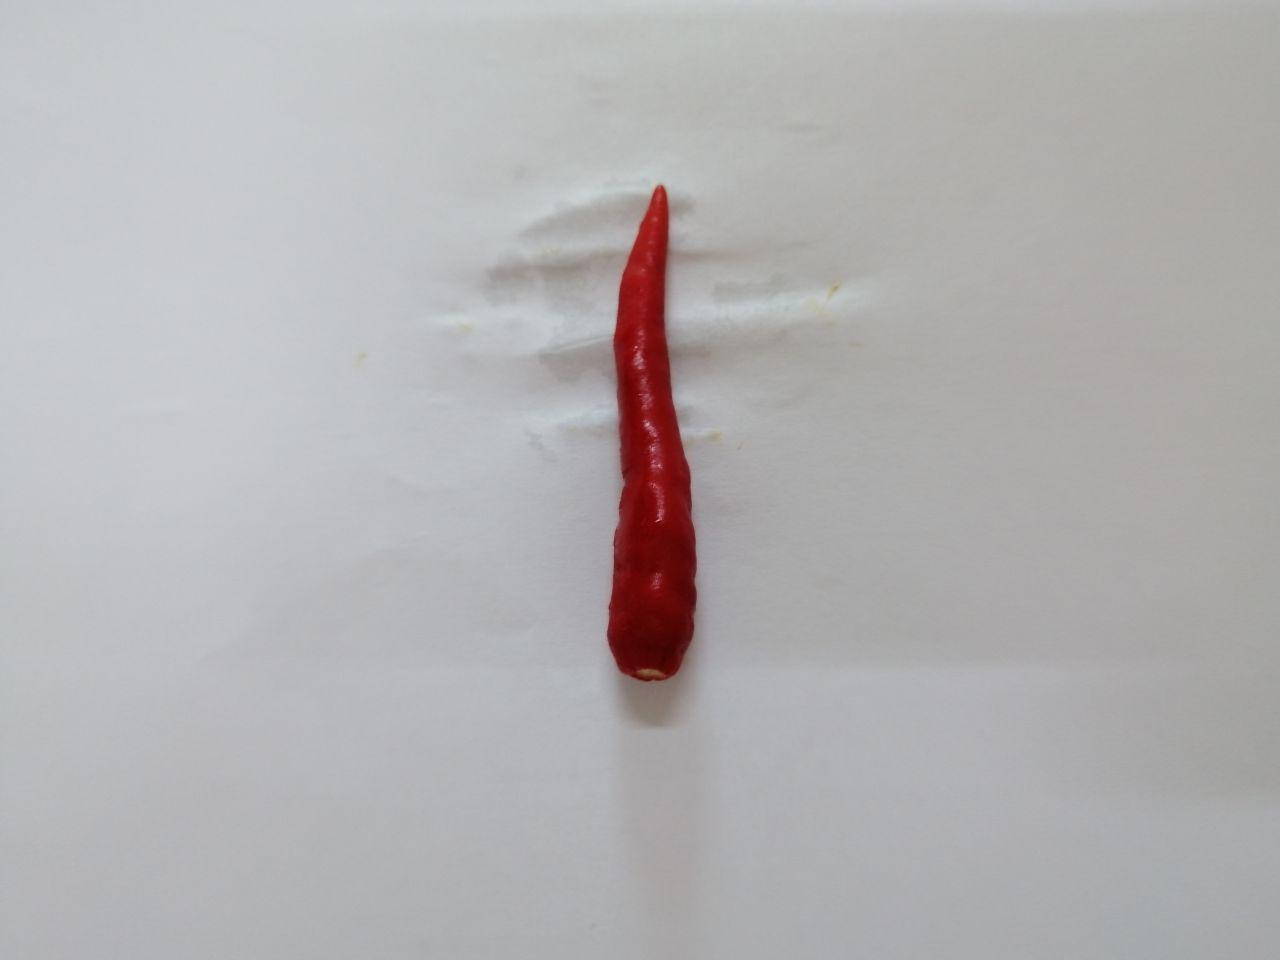lada merah: (544, 158, 728, 711)
